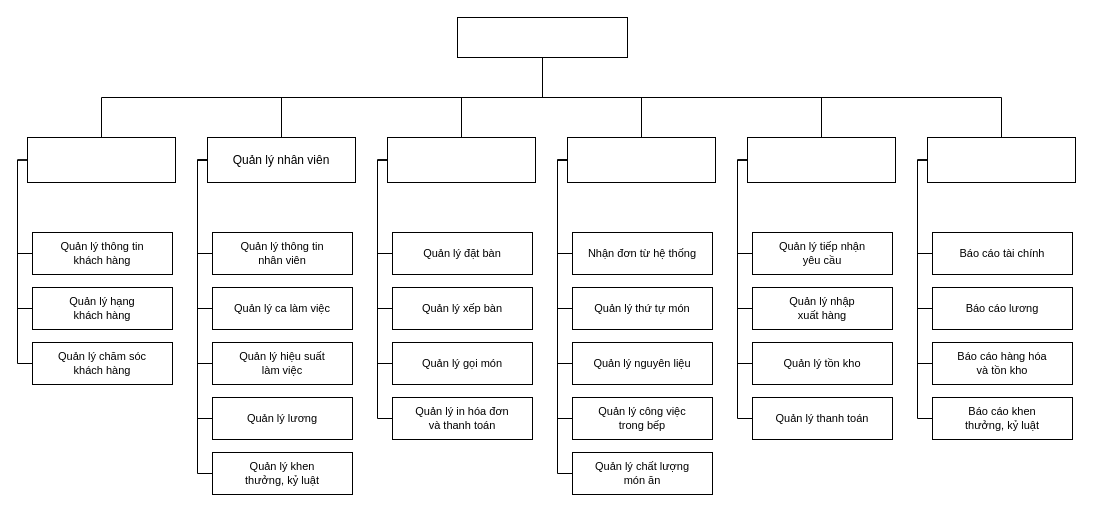
Image size: 1093x512. Some labels were removed from this diagram. The box of each missing label's shape, as (x1, y1, x2, y2) in pixels:
Báo cáo - Thống kê: (926, 136, 1076, 182)
Quản lý bán hàng: (386, 136, 536, 182)
Quản lý kho hàng: (746, 136, 896, 182)
Quản lý khách hàng: (26, 136, 176, 182)
Quản lý nhà bếp: (566, 136, 716, 182)
Quản lý nhà hàng: (456, 16, 628, 58)
